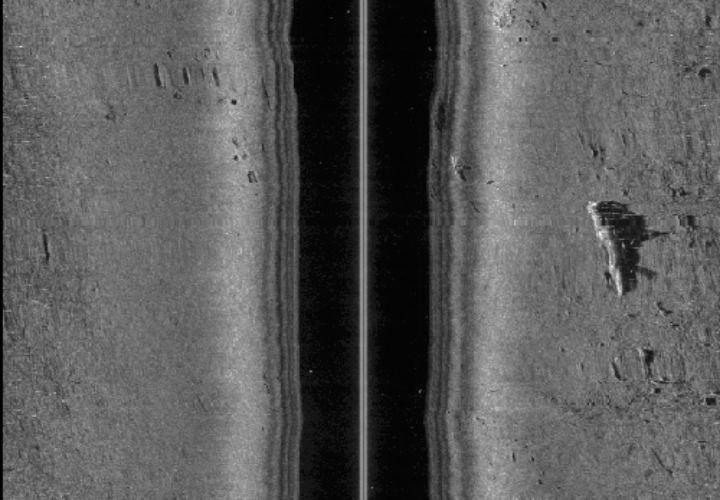ship: (585, 198, 630, 299)
